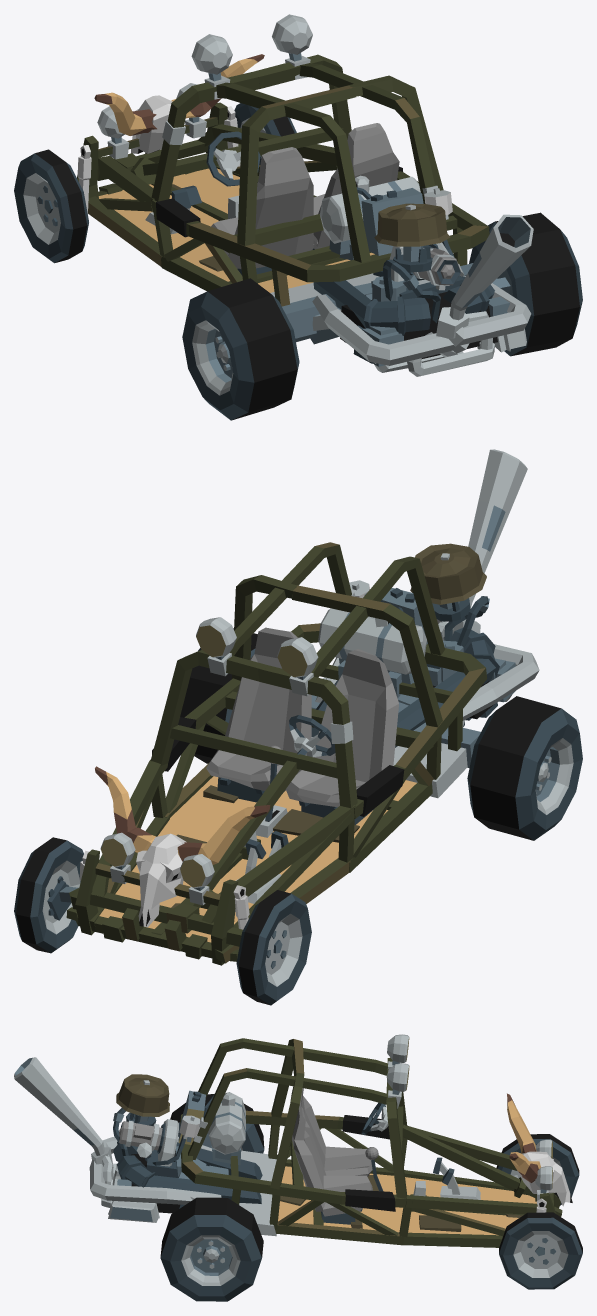
File: buggy.glb
3 renders of one model, top to bottom at view 1: azimuth 30°, elevation 25°; view 2: azimuth 150°, elevation 25°; view 3: azimuth 270°, elevation 25°, orthographic. The views are drawn at different scales.
Parts seen in each view (by area): view 1: body, wheel_rl, wheel_rr, wheel_fl, wheel_fr; view 2: body, wheel_rl, wheel_fl, wheel_fr, wheel_rr; view 3: body, wheel_rr, wheel_fr, wheel_fl, wheel_rl.
Part boxes in pixels (x1,y1,x2,y2): body: (68,14,533,376); wheel_rl: (182,278,299,420); wheel_rr: (469,212,582,356); wheel_fl: (14,149,88,263); wheel_fr: (234,103,296,164); body: (60,449,539,965); wheel_rl: (467,696,582,840); wheel_fl: (236,890,311,1005); wheel_fr: (14,837,83,953); wheel_rr: (180,628,257,763); body: (14,1034,572,1247); wheel_rr: (160,1197,263,1301); wheel_fr: (499,1212,582,1289); wheel_fl: (496,1134,579,1205); wheel_rl: (170,1094,264,1153).
Bounding box in the file's own units: 1.88 × 1.39 × 3.58.
